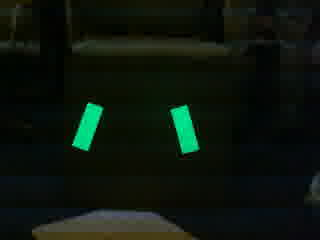target: (71, 100, 202, 156)
